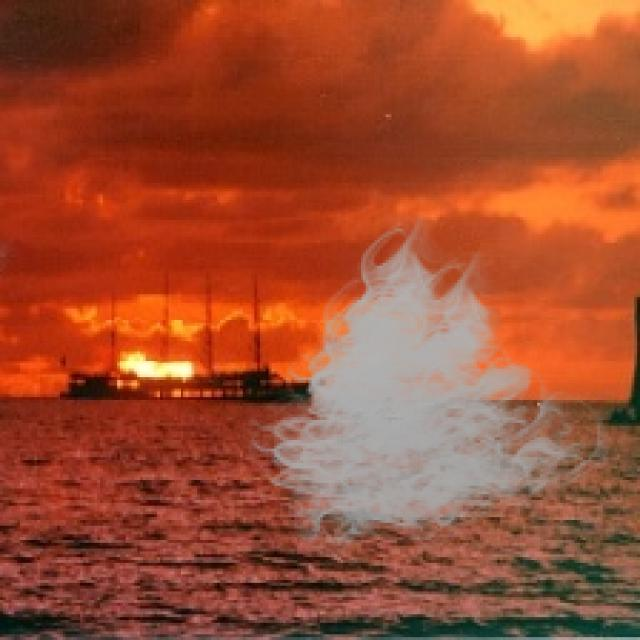smoke: (237, 217, 617, 566)
